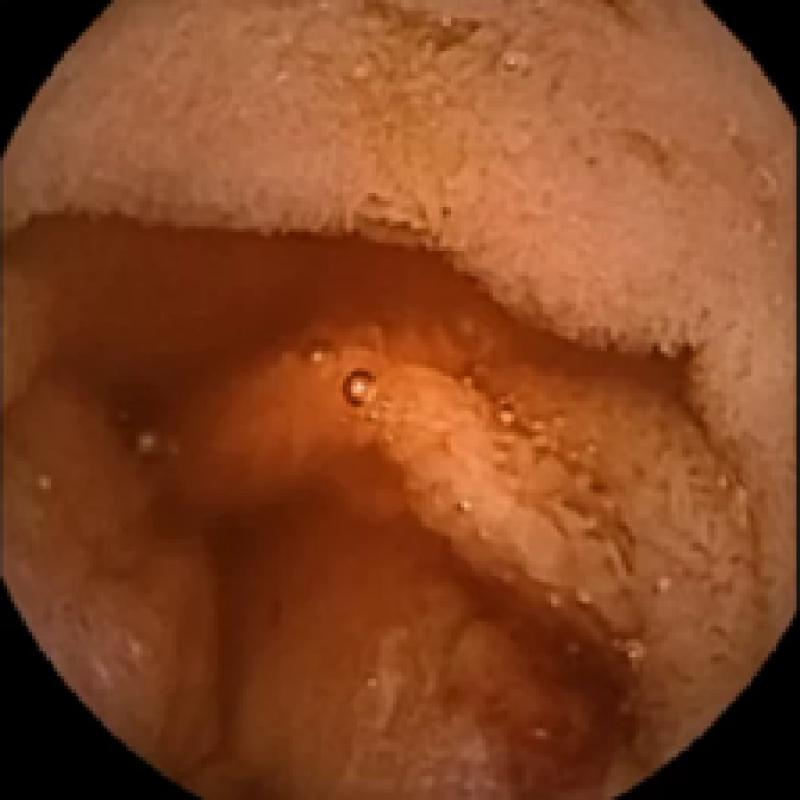bleeding: (150, 436, 675, 771)
